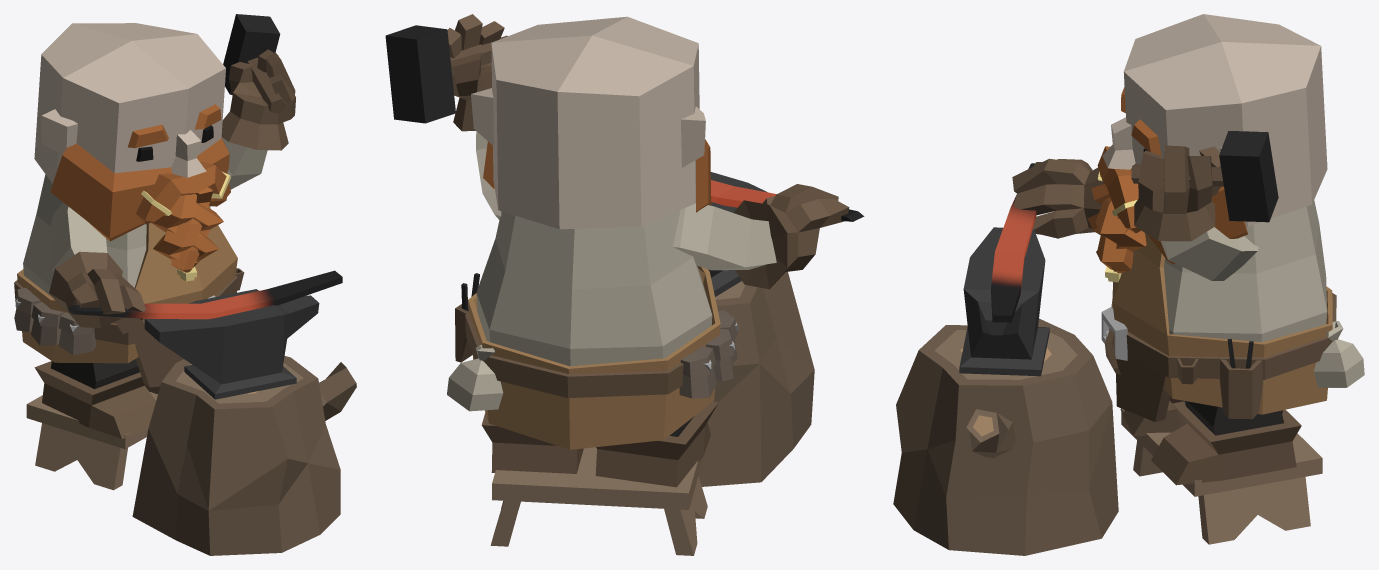
Rendered from forgeron.glb.
The picture shows the model from 3 angles, left to right: view 1: azimuth 30°, elevation 25°; view 2: azimuth 150°, elevation 25°; view 3: azimuth 270°, elevation 25°; orthographic projection. The views are drawn at different scales.
Visible parts, largest first — view 1: Hammer_GEO_CharTxt_MAT_0, Hammer_GEO_Forge_MAT_0; view 2: Hammer_GEO_CharTxt_MAT_0, Hammer_GEO_Forge_MAT_0; view 3: Hammer_GEO_CharTxt_MAT_0, Hammer_GEO_Forge_MAT_0.
Boxes of the visible parts, x1=… form: Hammer_GEO_CharTxt_MAT_0: x1=14, y1=14, x2=295, y2=438; Hammer_GEO_Forge_MAT_0: x1=26, y1=270, x2=356, y2=555; Hammer_GEO_CharTxt_MAT_0: x1=385, y1=14, x2=849, y2=487; Hammer_GEO_Forge_MAT_0: x1=490, y1=172, x2=864, y2=555; Hammer_GEO_CharTxt_MAT_0: x1=1012, y1=14, x2=1364, y2=485; Hammer_GEO_Forge_MAT_0: x1=893, y1=163, x2=1322, y2=555.
Size of the model in its own units: 1.17 by 1.52 by 1.41.
2 materials, 2 textured.
